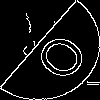O: (25, 25, 91, 85)
